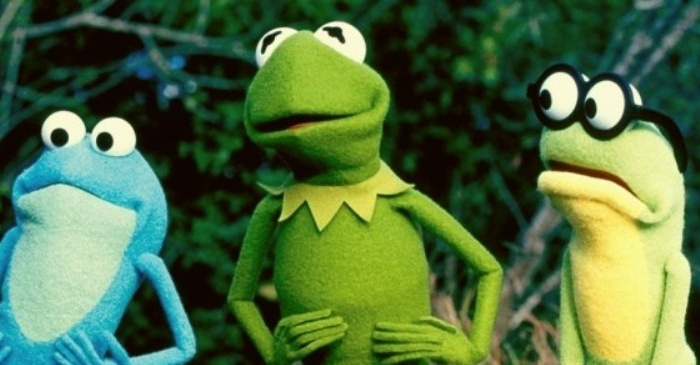kermit: (238, 16, 393, 181)
